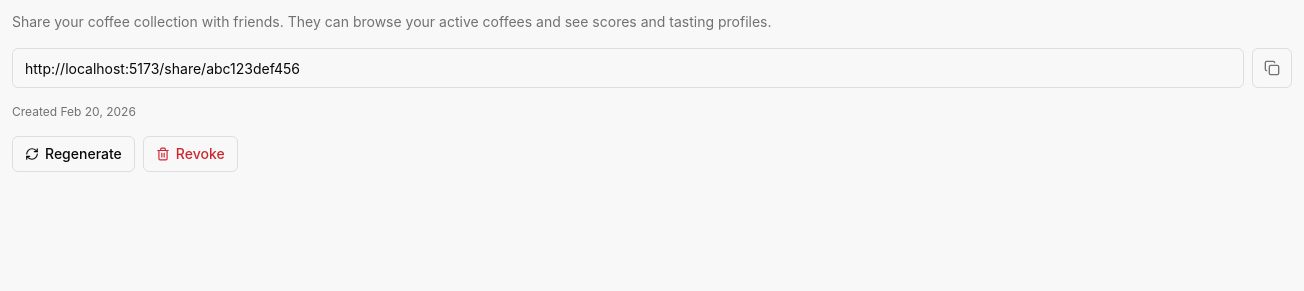
Test: ShareLinkManager › shows confirmation before regenerating
Click the button "Regenerate" at [73, 154], box x1=12 y1=136 x2=135 y2=172
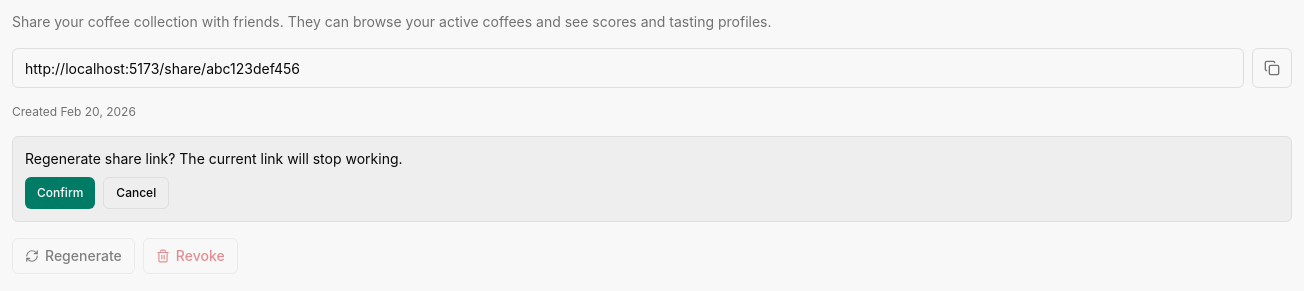
Now the text "Regenerate share link? The current link will stop working." is shown, box x1=25 y1=150 x2=402 y2=167
Now the button "Confirm" is shown, box x1=25 y1=177 x2=95 y2=209
